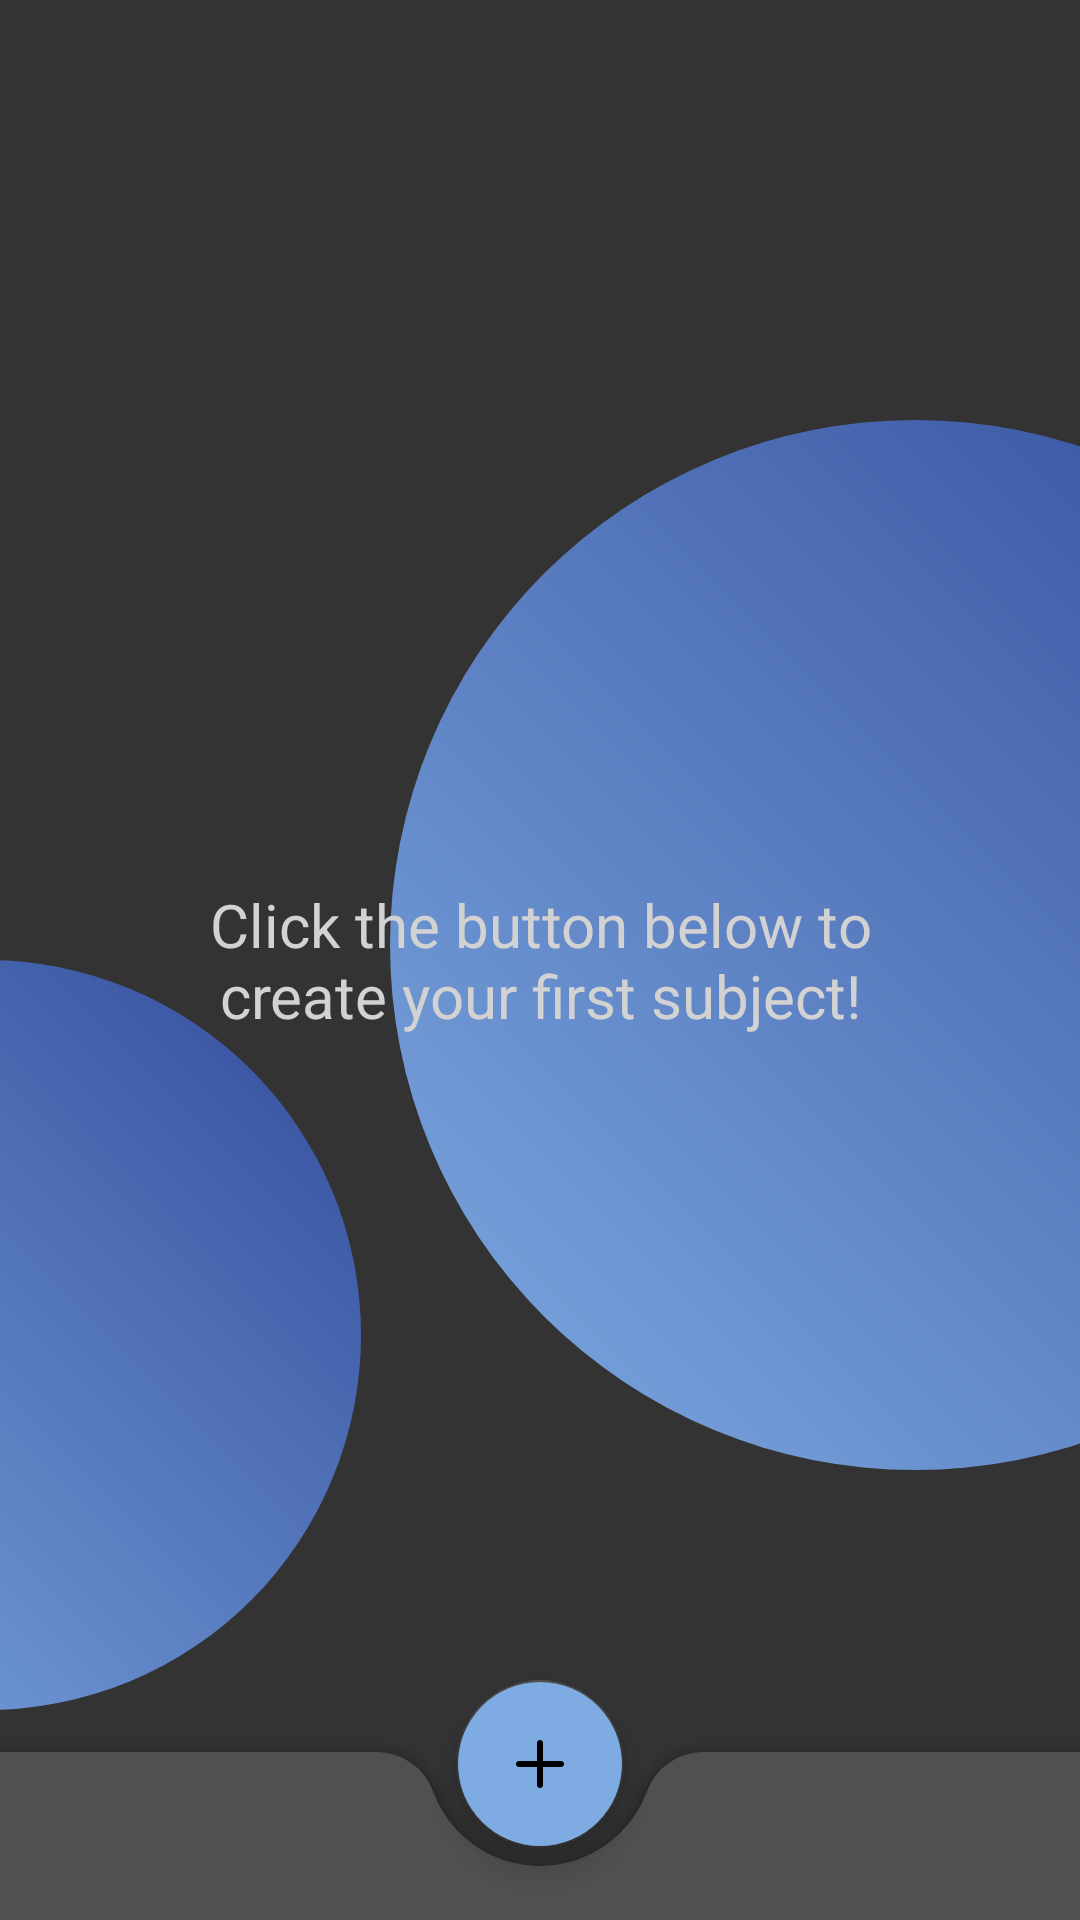

Point at icon controls on the screen. Image size 1080w x 1920h, points as [x,y].
plus: [540,1763]
